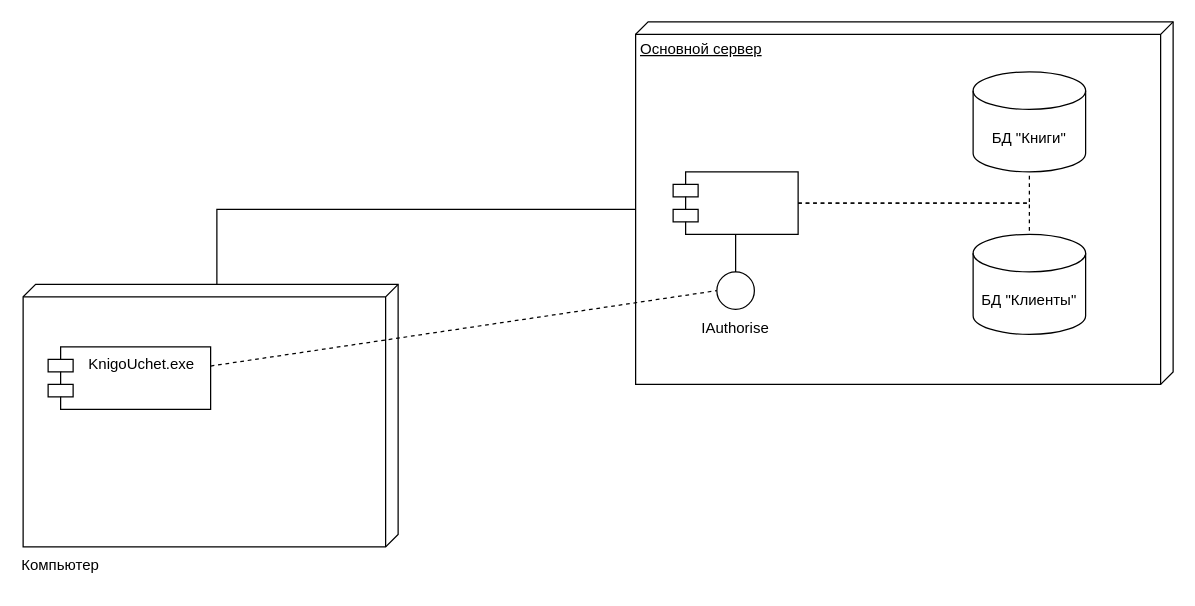
The diagram is 1195 pixels wide and 606 high, and some of its shapes have lost their labels. The box of each missing label's shape, as (x1, y1, x2, y2) in pixels:
main.exe: (672, 171, 798, 234)
ПО "КнигоУчёт": (22, 283, 398, 547)
